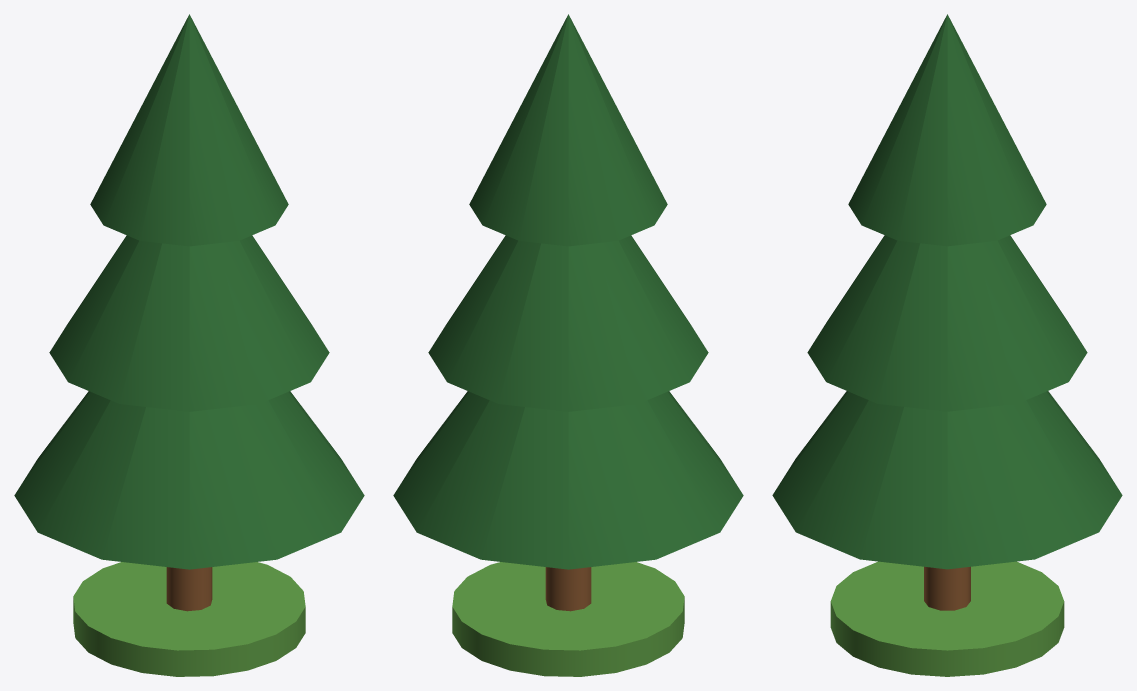
File: pine-tree.glb
The picture shows the model from 3 angles, left to right: view 1: azimuth 30°, elevation 25°; view 2: azimuth 150°, elevation 25°; view 3: azimuth 270°, elevation 25°; orthographic projection.
Parts seen in each view (by area): view 1: pine, grass, darkWood; view 2: pine, grass, darkWood; view 3: pine, grass, darkWood.
Boxes of the visible parts, x1,y1,x2,y2 form: pine: (14, 14, 364, 569); grass: (73, 562, 305, 676); darkWood: (166, 567, 212, 611); pine: (393, 14, 743, 569); grass: (452, 562, 684, 676); darkWood: (545, 567, 591, 611); pine: (772, 14, 1122, 569); grass: (830, 561, 1064, 676); darkWood: (924, 566, 970, 610).
Bounding box in the file's own units: 60 × 116 × 60.
